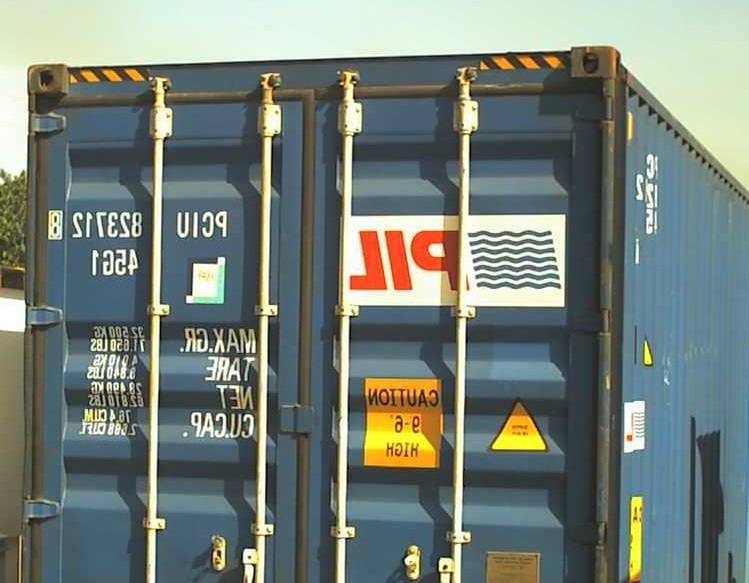container_door: (20, 57, 618, 583)
